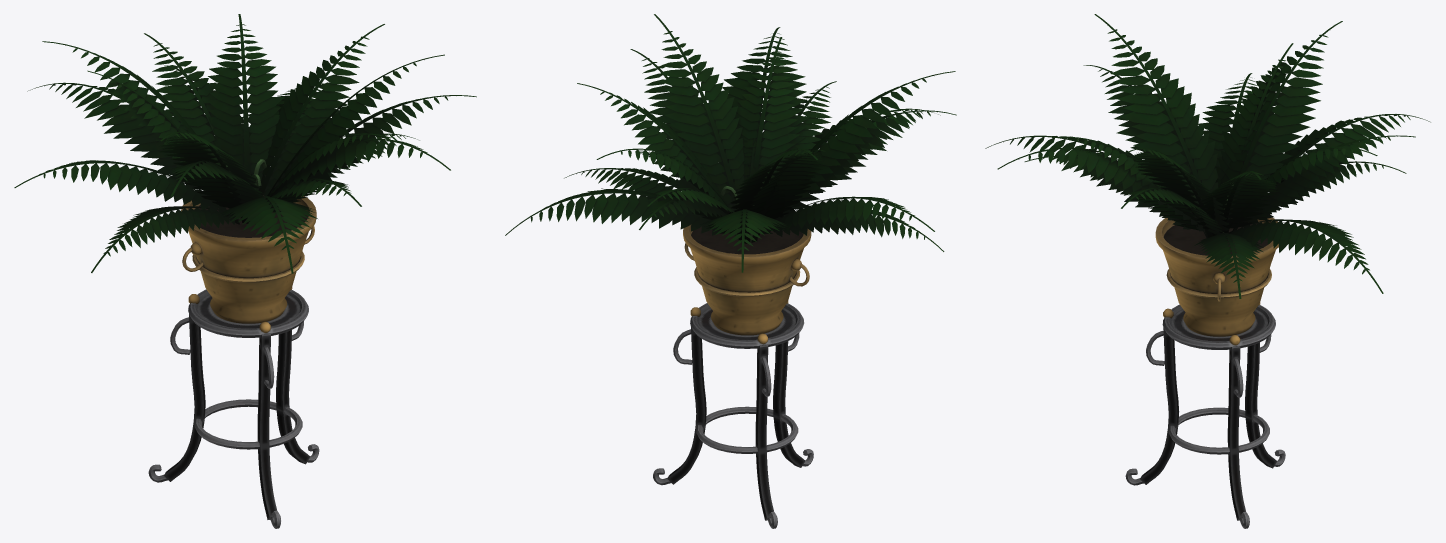
Rendered from DormPlantHealthy.fbx.
The picture shows the model from 3 angles, left to right: view 1: azimuth 30°, elevation 25°; view 2: azimuth 150°, elevation 25°; view 3: azimuth 270°, elevation 25°; orthographic projection. The views are drawn at different scales.
Visible parts, largest first — view 1: DormPlantHealthy; view 2: DormPlantHealthy; view 3: DormPlantHealthy.
Boxes of the visible parts, x1=… form: DormPlantHealthy: x1=14, y1=14, x2=476, y2=528; DormPlantHealthy: x1=505, y1=14, x2=956, y2=528; DormPlantHealthy: x1=985, y1=14, x2=1430, y2=528.
Size of the model in its own units: 347 by 361 by 358.
